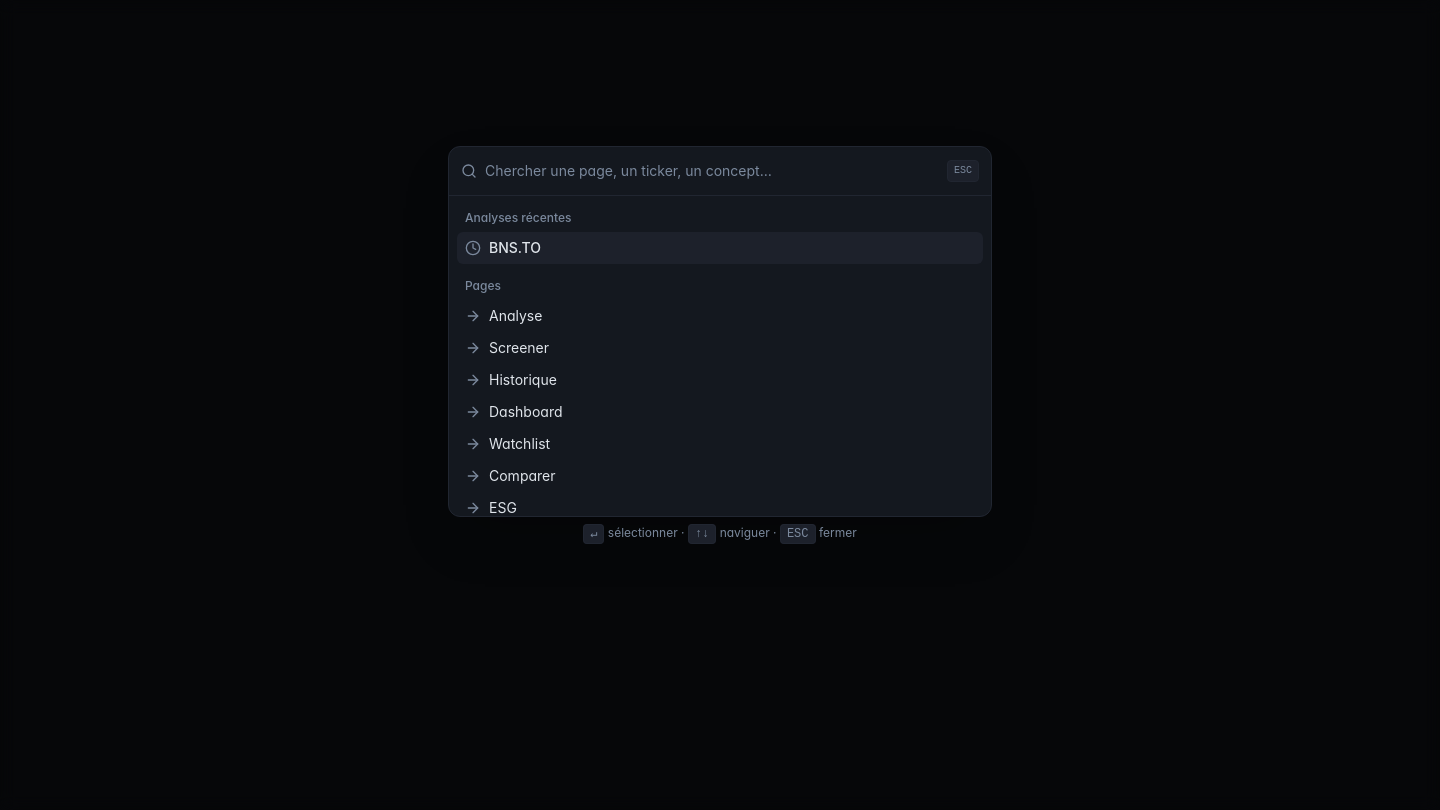
Test: CommandPalette › filtre les pages selon la saisie
Type "scree" into the dropdown with test id "command-palette-input" at (716, 171), box [485, 147, 947, 195]
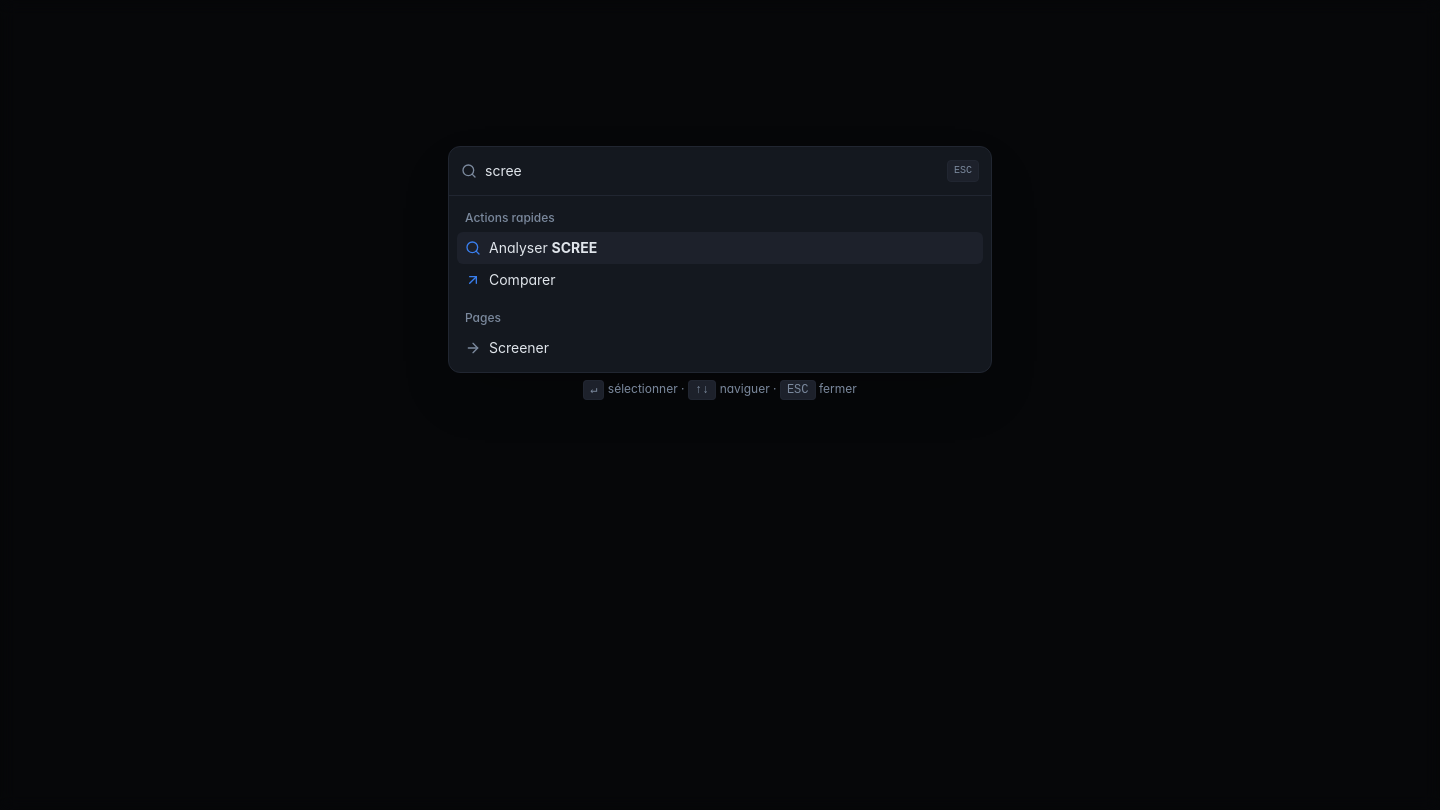
Expected: the option "Screener" is shown, [465, 339, 549, 356]
Expected: the option "Dashboard" is gone
